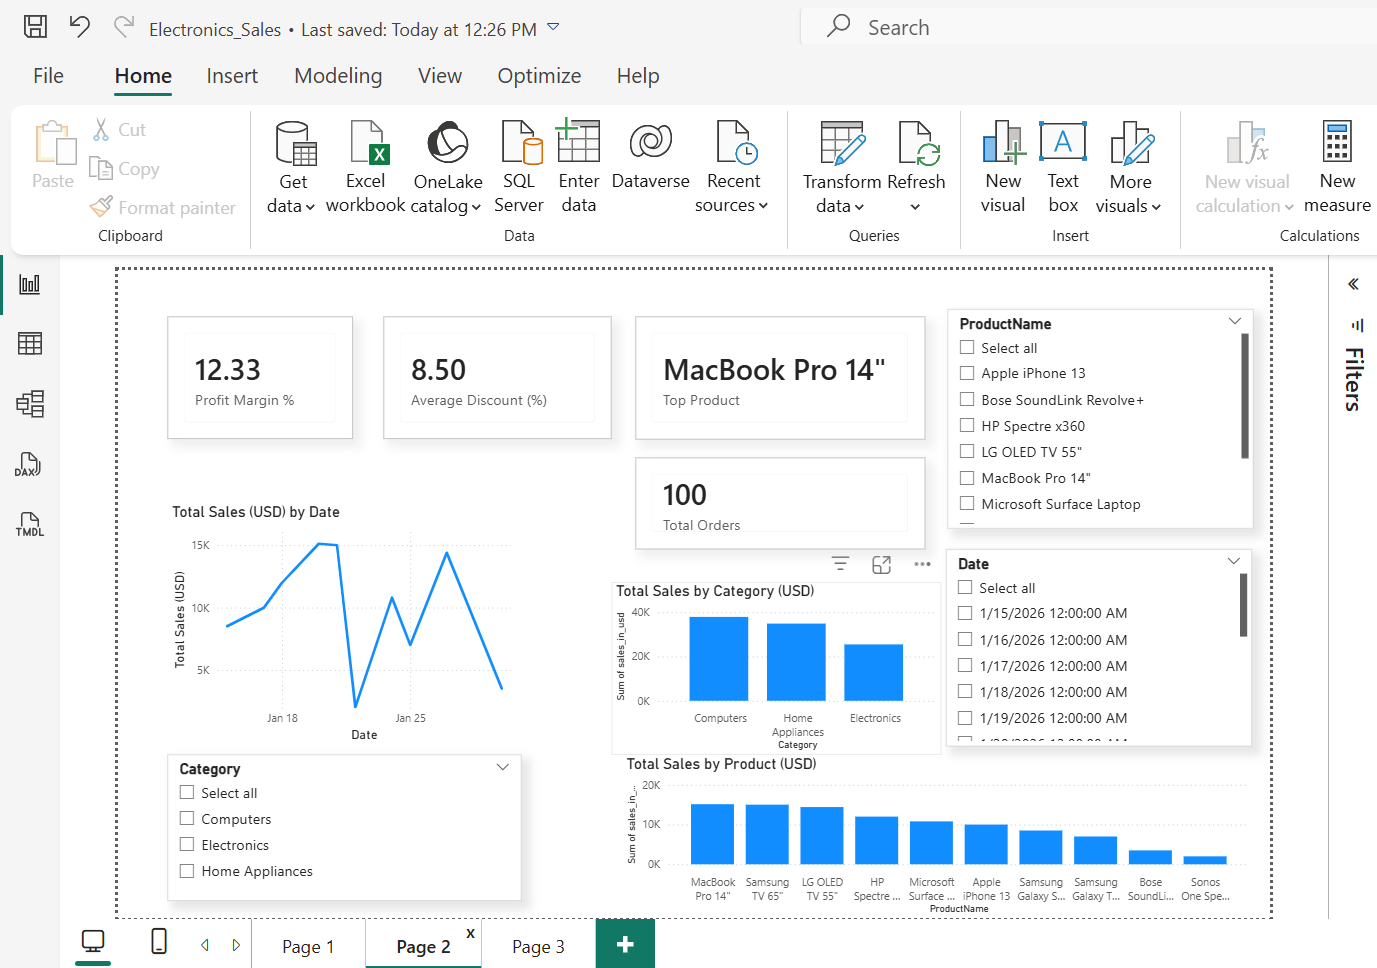

The dashboard page shown, as its layout file describes it:
{"tool":"powerbi","page":{"name":"Page 2","canvas":[1280,720],"ordinal":1},"visuals":[{"type":"cardVisual","fields":{"Data":["electronicSales.Profit Margin %"]},"box":[54.8,51,206,136.1],"z":0},{"type":"cardVisual","fields":{"Data":["electronicSales.Average Discount (%)"]},"box":[294.8,51,253.2,136.1],"z":1000},{"type":"lineChart","fields":{"Category":["DateTable.Date"],"Y":["electronicSales.Total Sales (USD)"]},"box":[54.8,258.9,393.1,270.2],"z":2000},{"type":"columnChart","title":"Total Sales by Product (USD)","fields":{"Y":["Sum(electronicSales.sales_in_usd)"],"Category":["electronicSales.ProductName"]},"box":[560,538.3,701.7,181.7],"z":3000},{"type":"columnChart","title":"Total Sales by Category (USD)","fields":{"Y":["Sum(electronicSales.sales_in_usd)"],"Category":["electronicSales.Category"]},"box":[548.3,346.7,366.7,191.7],"z":4000},{"type":"slicer","fields":{"Values":["electronicSales.ProductName"]},"box":[921,43,340,244],"z":5000},{"type":"slicer","fields":{"Values":["DateTable.Date"]},"box":[920.3,309.9,340.2,219.2],"z":6000},{"type":"slicer","fields":{"Values":["electronicSales.Category"]},"box":[54.8,538.6,393.1,162.5],"z":7000},{"type":"cardVisual","fields":{"Data":["electronicSales.Top Product"]},"box":[575,51.7,321.7,136.7],"z":8000},{"type":"cardVisual","fields":{"Data":["electronicSales.Total Orders"]},"box":[575,208.3,321.7,101.7],"z":9000}]}

Visuals, with their boxes on the page's 1280x720 design canvas (x1, y1, x2, y2). These are canvas units, not pixel positions in the 1377x968 screenshot, which may show the page scaled, cropped or inside an application window:
cardVisual - electronicSales.Profit Margin %: 55/51/261/187
cardVisual - electronicSales.Average Discount (%): 295/51/548/187
lineChart - DateTable.Date x electronicSales.Total Sales (USD): 55/259/448/529
"Total Sales by Product (USD)" columnChart: 560/538/1262/720
"Total Sales by Category (USD)" columnChart: 548/347/915/538
slicer - electronicSales.ProductName: 921/43/1261/287
slicer - DateTable.Date: 920/310/1260/529
slicer - electronicSales.Category: 55/539/448/701
cardVisual - electronicSales.Top Product: 575/52/897/188
cardVisual - electronicSales.Total Orders: 575/208/897/310
